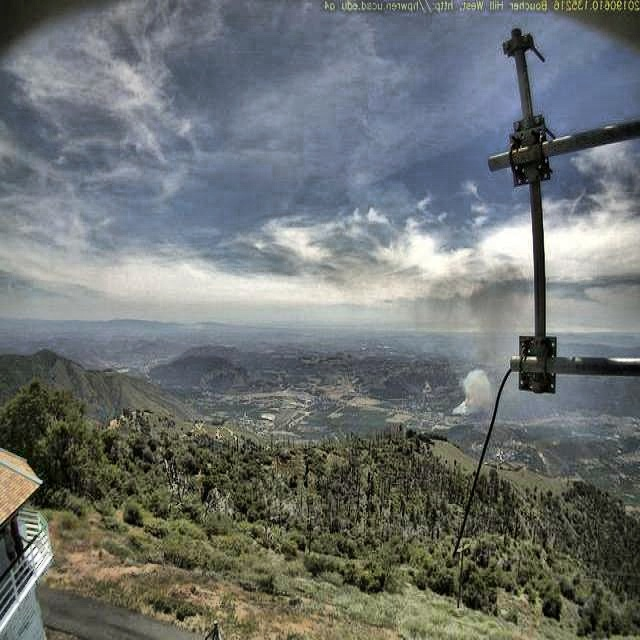smoke: (447, 255, 532, 422)
